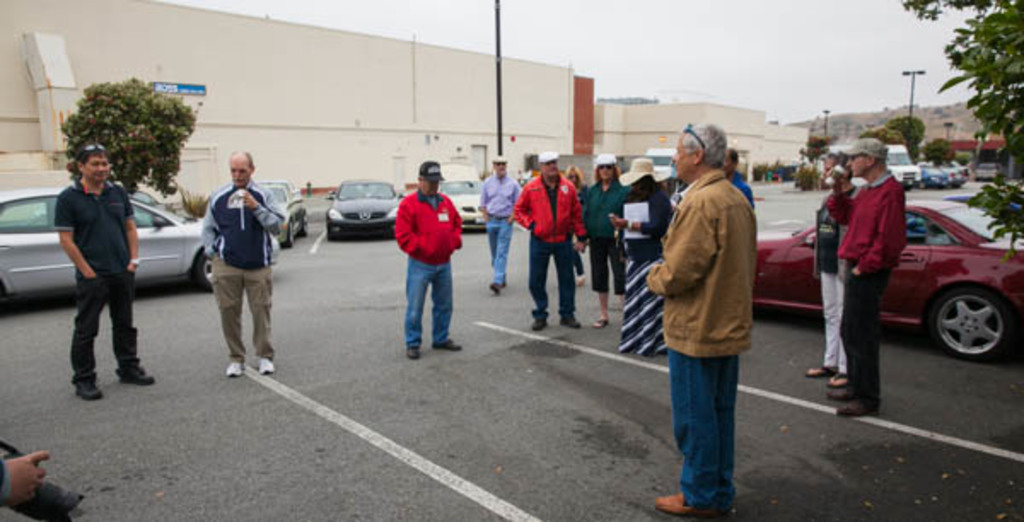cars: (753, 194, 1021, 363), (0, 184, 285, 305), (320, 177, 397, 232), (437, 159, 491, 227), (265, 179, 301, 244)
